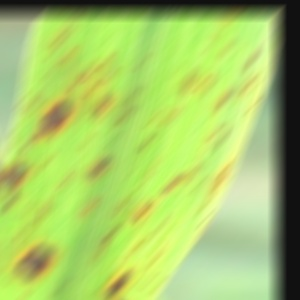Bacterial_Leaf_Blight: (10, 246, 61, 282), (37, 94, 73, 138), (104, 268, 134, 300), (84, 155, 113, 184), (90, 90, 116, 118), (32, 195, 55, 224), (242, 43, 265, 71), (0, 165, 25, 189), (212, 85, 235, 110), (215, 159, 232, 191), (184, 160, 203, 183), (162, 174, 183, 194), (133, 201, 151, 223), (180, 71, 196, 95), (1, 194, 19, 212), (83, 196, 98, 216), (18, 136, 36, 152), (216, 130, 229, 151), (146, 252, 162, 268), (138, 135, 154, 150), (104, 226, 120, 241), (50, 32, 66, 47), (246, 97, 260, 113), (43, 46, 61, 58), (80, 135, 95, 149), (213, 23, 228, 36), (68, 77, 83, 90), (63, 47, 76, 62), (220, 41, 233, 56), (25, 97, 37, 113), (152, 279, 166, 292), (98, 56, 113, 68), (118, 109, 131, 122), (83, 85, 98, 96), (59, 175, 72, 187), (133, 57, 148, 67), (125, 89, 137, 101), (200, 214, 212, 226), (7, 138, 16, 154), (106, 135, 119, 146), (241, 78, 252, 91), (128, 245, 140, 256), (192, 180, 205, 190), (196, 78, 207, 89), (210, 126, 221, 137), (146, 115, 158, 125), (103, 72, 118, 80), (205, 40, 217, 50), (95, 281, 107, 291), (162, 113, 173, 123), (65, 28, 76, 38), (143, 277, 154, 287), (113, 215, 125, 224), (58, 280, 70, 289), (72, 14, 82, 24), (178, 184, 189, 193), (142, 175, 151, 186), (173, 66, 182, 76), (138, 237, 148, 246), (39, 161, 49, 170), (112, 264, 122, 273), (166, 47, 176, 56), (10, 124, 21, 132), (87, 69, 96, 78), (47, 154, 57, 162), (151, 243, 161, 251), (103, 261, 112, 269), (163, 229, 171, 237), (233, 48, 241, 56), (253, 82, 260, 91), (171, 113, 180, 120), (202, 68, 209, 76), (35, 105, 43, 112), (201, 137, 208, 145), (37, 236, 43, 242), (28, 231, 34, 237), (13, 236, 19, 242)
